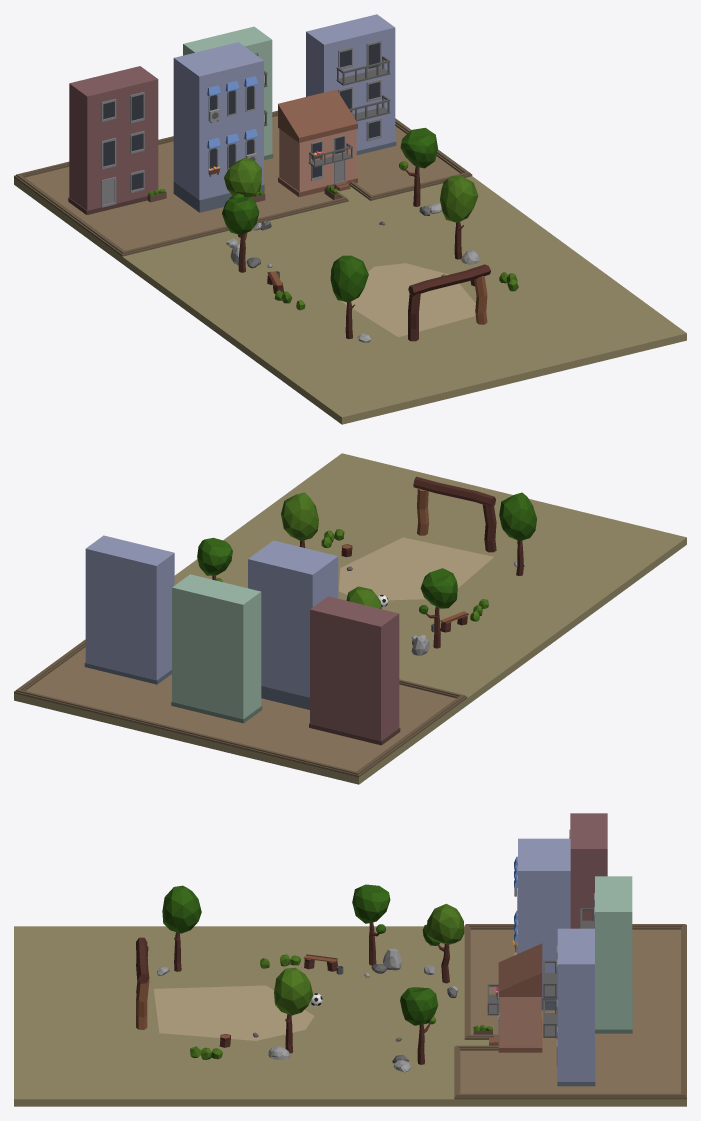
The model's file is Village.fbx.
3 views of the same model, one above another, from view 1: azimuth 30°, elevation 25°; view 2: azimuth 150°, elevation 25°; view 3: azimuth 270°, elevation 25° (orthographic). The views are drawn at different scales.
Parts seen in each view (by area): view 1: Platform, house.003, house, house.004, house.001, house.002, tree.001, tree, tree.004, tree.002, tree.003, football goal (+1 smaller); view 2: Platform, house.003, house.002, house.004, house, tree, tree.002, tree.001, tree.004, football goal, football goal.002, football goal.001 (+1 smaller); view 3: Platform, house.004, house, house.002, house.001, house.003, tree.001, tree, tree.003, tree.002, tree.004, football goal.001 (+1 smaller).
Boxes of the visible parts, box(x1,y1,x2,y2) form: Platform: box(14, 110, 686, 424); house.003: box(68, 66, 158, 214); house: box(173, 42, 264, 212); house.004: box(306, 14, 396, 155); house.001: box(278, 89, 357, 197); house.002: box(183, 26, 273, 160); tree.001: box(440, 175, 478, 259); tree: box(330, 255, 368, 338); tree.004: box(399, 127, 437, 206); tree.002: box(222, 196, 259, 272); tree.003: box(224, 157, 261, 237); football goal: box(408, 264, 490, 296); Platform: box(14, 453, 686, 784); house.003: box(309, 596, 400, 745); house.002: box(171, 574, 262, 723); house.004: box(84, 535, 174, 684); house: box(248, 540, 338, 709); tree: box(499, 492, 536, 575); tree.002: box(419, 568, 457, 648); tree.001: box(281, 492, 318, 547); tree.004: box(197, 537, 232, 581); football goal: box(413, 476, 495, 507); football goal.002: box(482, 504, 496, 552); football goal.001: box(417, 488, 428, 535); Platform: box(14, 924, 686, 1106); house.004: box(556, 928, 595, 1086); house: box(517, 838, 570, 1010); house.002: box(594, 876, 632, 1033); house.001: box(489, 943, 542, 1052); house.003: box(569, 813, 607, 928); tree.001: box(274, 967, 313, 1053); tree: box(162, 885, 201, 971); tree.003: box(422, 903, 464, 983); tree.002: box(352, 884, 390, 965); tree.004: box(400, 987, 438, 1064); football goal.001: box(136, 979, 149, 1029).
Size of the model in its own units: 1215 by 482 by 2000.
